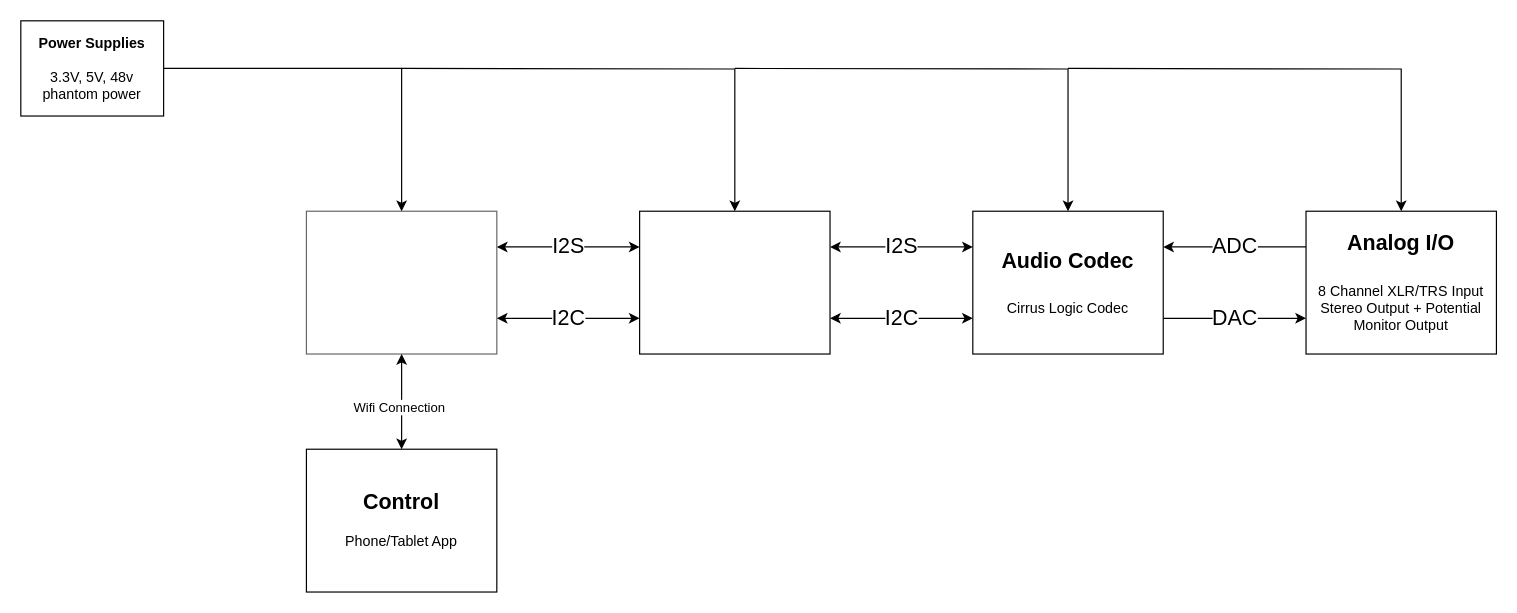
The diagram is 1517 pixels wide and 613 high, and some of its shapes have lost their labels. Here are the shapes that lost their labels. From the top down, the centre of each, then its label:
(x=401, y=282): AI + Control Chip Raspberry Pi 5
(x=734, y=282): DSP Chip xCORE MCU
